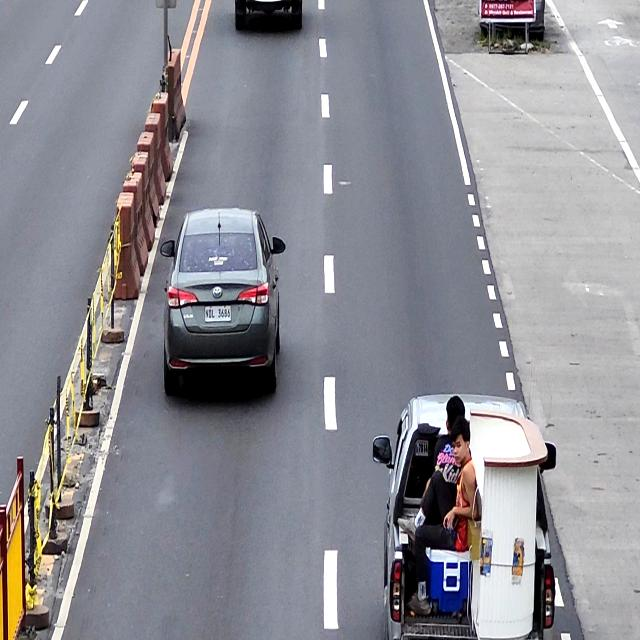Car: (163, 209, 282, 391)
License-Plate: (201, 303, 232, 325)
Truck: (385, 393, 555, 640)
